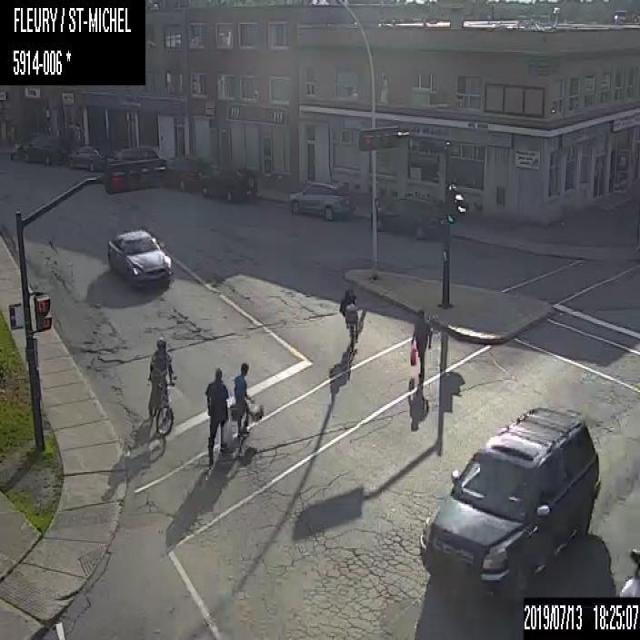cyclist: (147, 340, 173, 432), (338, 288, 359, 355)
pedestrian: (229, 358, 265, 459), (204, 359, 229, 468), (408, 307, 433, 380)
vehicle: (418, 403, 599, 601), (106, 226, 173, 286), (288, 178, 356, 222), (376, 194, 443, 238), (199, 163, 259, 206), (165, 156, 210, 195), (20, 132, 67, 168), (65, 137, 107, 172)
